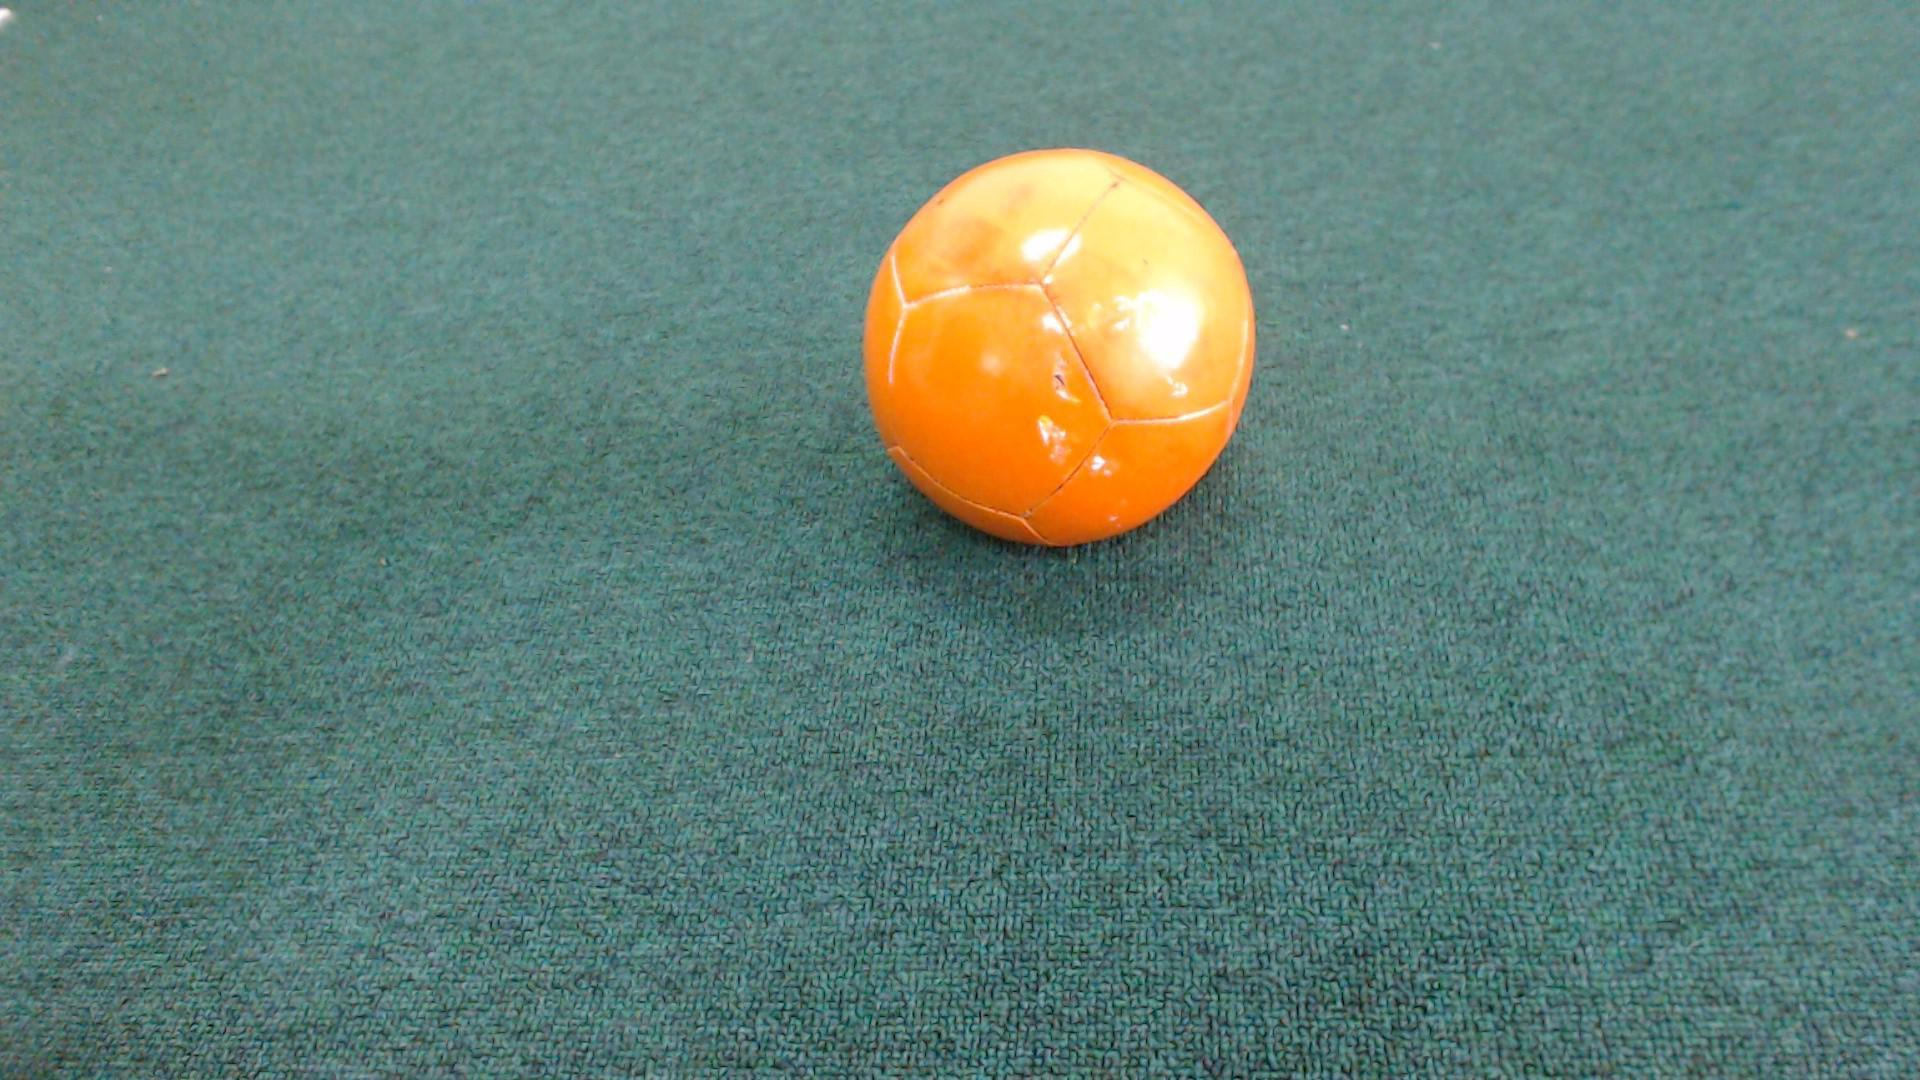bola: (828, 137, 1280, 568)
